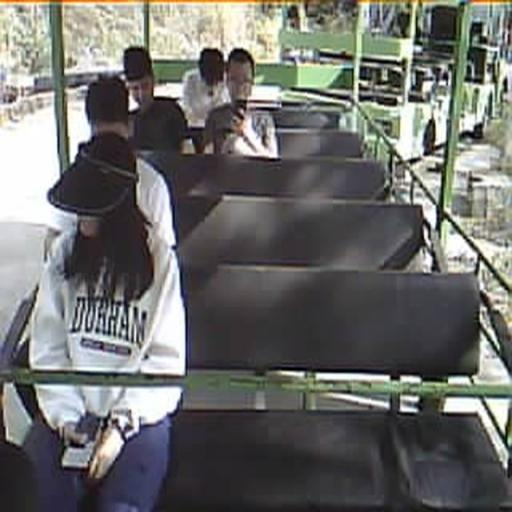persona: (31, 131, 188, 510), (42, 76, 176, 260), (199, 46, 280, 158), (119, 45, 189, 152), (181, 46, 231, 124)
